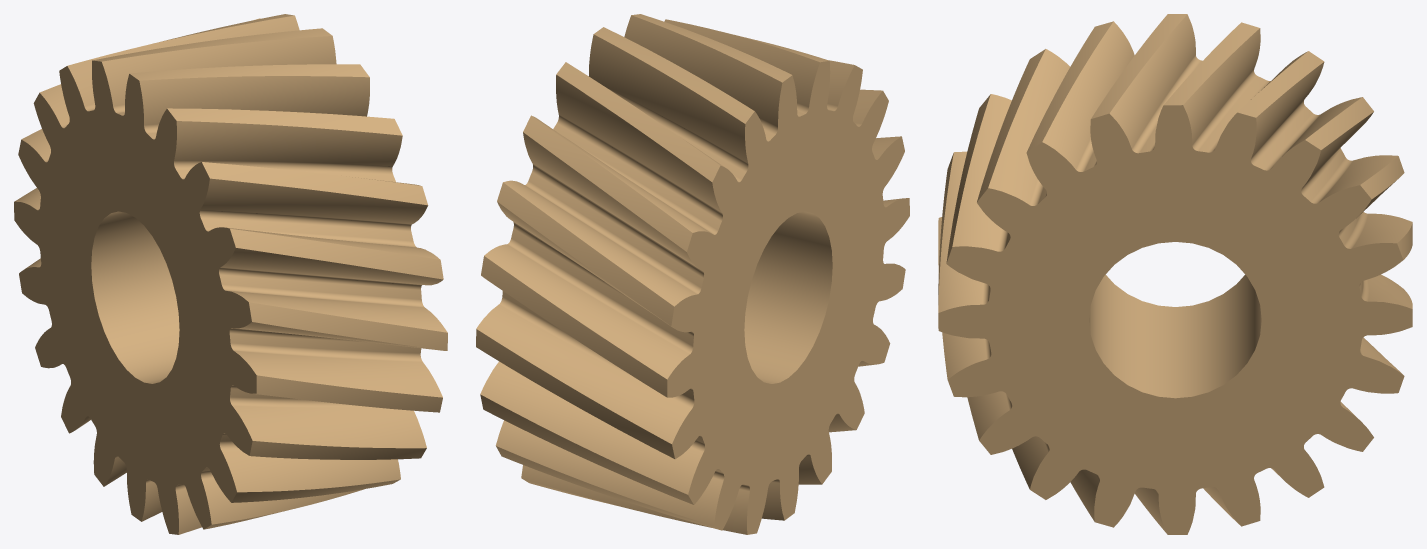
Rendered from helical_gear.glb.
The picture shows the model from 3 angles, left to right: view 1: azimuth 30°, elevation 25°; view 2: azimuth 150°, elevation 25°; view 3: azimuth 270°, elevation 25°; orthographic projection. The views are drawn at different scales.
Parts seen in each view (by area): view 1: helical gear; view 2: helical gear; view 3: helical gear.
Part boxes in pixels (<box>): helical gear: <box>14,14,447,534</box>; helical gear: <box>476,14,909,534</box>; helical gear: <box>938,14,1412,534</box>.
Size of the model in its own units: 0.025 by 0.055 by 0.055.
